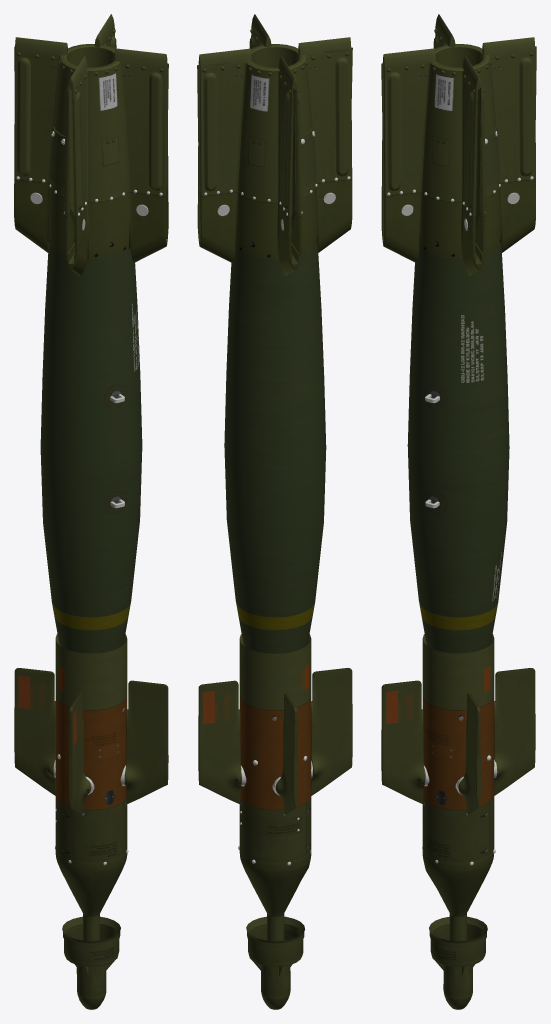
File: GBU-12.obj
3 views of the same model, side by side, from view 1: azimuth 30°, elevation 25°; view 2: azimuth 150°, elevation 25°; view 3: azimuth 330°, elevation 25° (orthographic).
Visible parts, largest first — view 1: Warhead, Rear, Computer, Fin2, Fin4, SeekerHead, Fin1, Metal, TailFin03; view 2: Warhead, Rear, Computer, Fin3, Fin1, SeekerHead, Fin4, Metal, TailFin02, TailFin04; view 3: Warhead, Rear, Computer, Fin1, Fin3, SeekerHead, Fin2, Metal, TailFin1.
Boxes of the visible parts, x1,y1,x2,y2 form: Warhead: (40, 242, 142, 653); Rear: (14, 14, 168, 275); Computer: (55, 634, 127, 940); Fin2: (124, 680, 168, 803); Fin4: (14, 668, 55, 795); SeekerHead: (62, 916, 120, 1009); Fin1: (69, 693, 91, 814); Metal: (16, 131, 162, 865); TailFin03: (68, 87, 74, 226); Warhead: (224, 243, 326, 653); Rear: (197, 14, 352, 276); Computer: (239, 634, 311, 940); Fin3: (198, 680, 241, 804); Fin1: (311, 668, 352, 795); SeekerHead: (246, 916, 304, 1009); Fin4: (275, 693, 297, 815); Metal: (204, 131, 350, 865); TailFin02: (291, 88, 295, 227); TailFin04: (197, 62, 229, 187); Warhead: (407, 242, 509, 653); Rear: (381, 14, 535, 276); Computer: (422, 634, 494, 940); Fin1: (381, 680, 425, 803); Fin3: (494, 668, 535, 795); SeekerHead: (429, 916, 487, 1009); Fin2: (458, 693, 480, 814); Metal: (387, 131, 533, 865); TailFin1: (475, 87, 481, 228).
Size of the model in its own units: 0.2484 by 2.19 by 0.2485.
9 materials, 5 textured.
